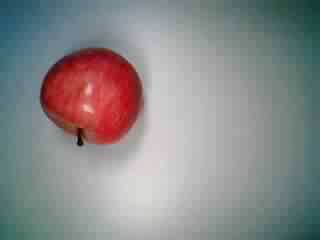apple: (39, 45, 143, 149)
